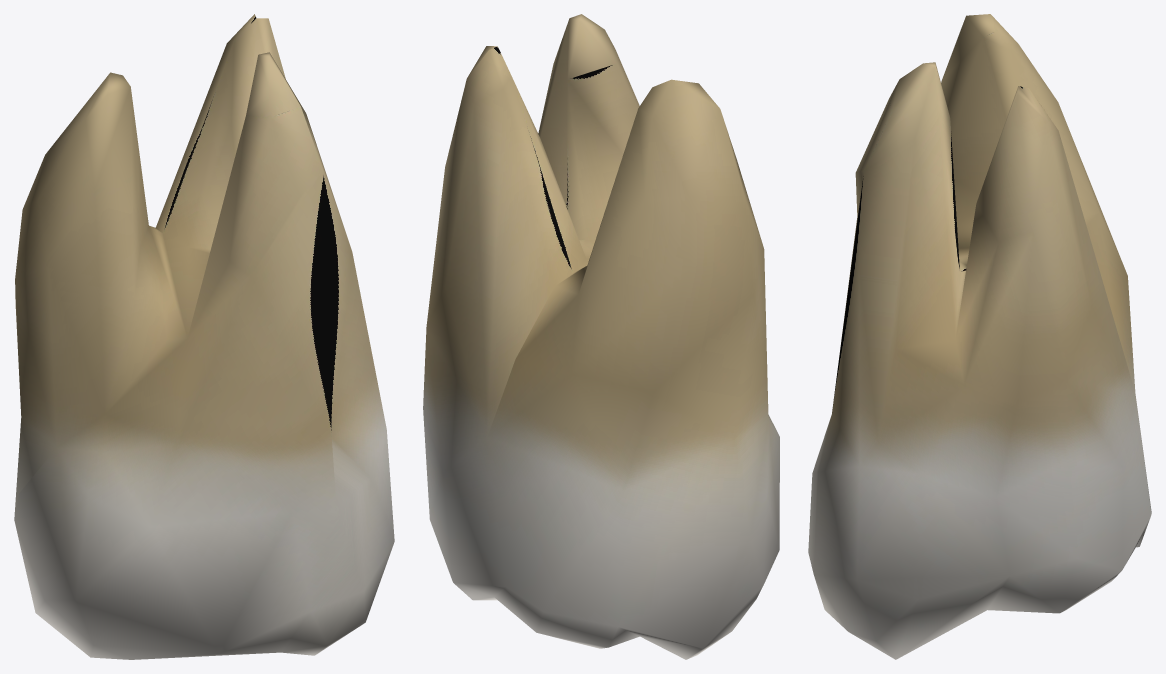
3 renders of one model, left to right at view 1: azimuth 30°, elevation 25°; view 2: azimuth 150°, elevation 25°; view 3: azimuth 270°, elevation 25°, orthographic. The views are drawn at different scales.
Parts seen in each view (by area): view 1: Object_2; view 2: Object_2; view 3: Object_2.
Boxes of the visible parts, x1,y1,x2,y2 form: Object_2: (14, 14, 394, 659); Object_2: (423, 14, 779, 659); Object_2: (808, 14, 1151, 659).
Bounding box in the file's own units: 0.9183 × 1.57 × 0.849.
Materials: 1 (1 with a texture image).
